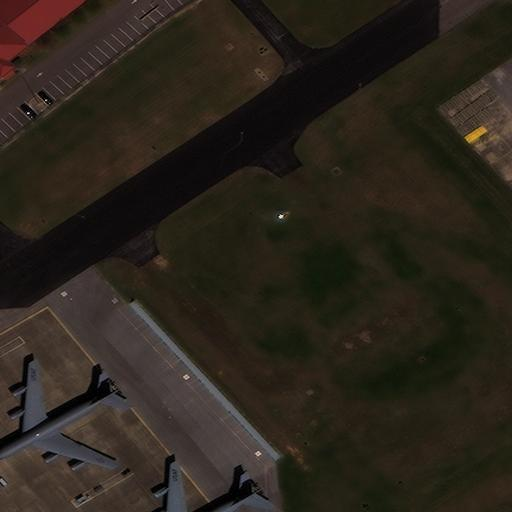Military Transport: (0, 361, 116, 468), (150, 463, 263, 511)
